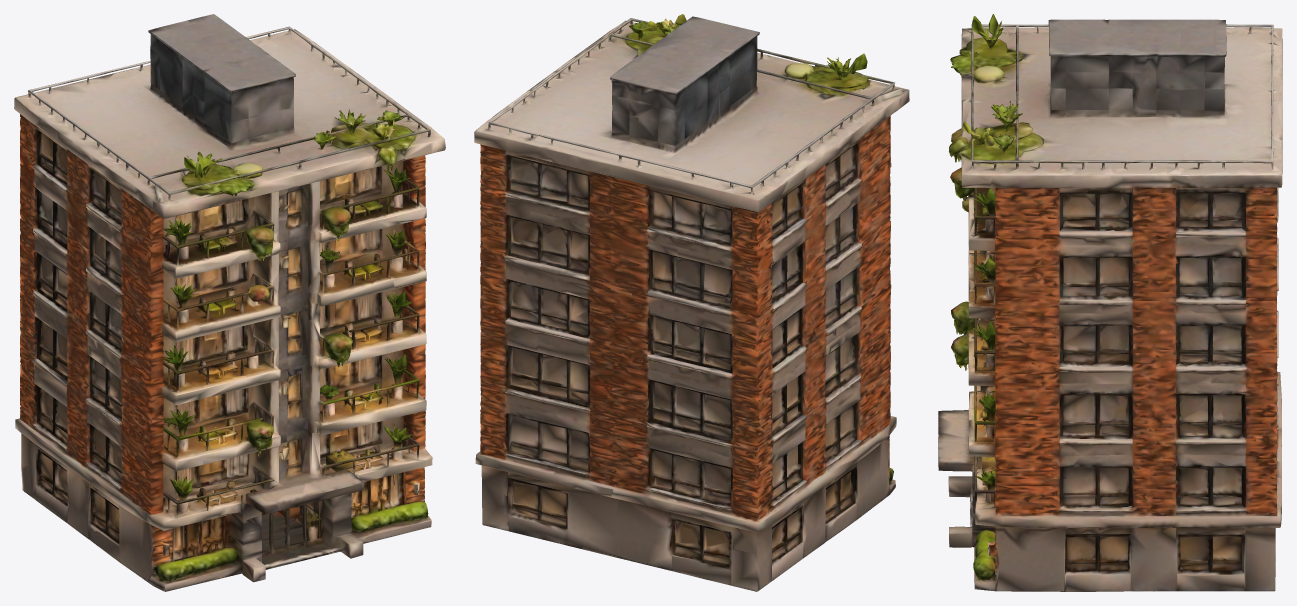
Rendered from brikme-building.glb.
3 renders of one model, left to right at view 1: azimuth 30°, elevation 25°; view 2: azimuth 150°, elevation 25°; view 3: azimuth 270°, elevation 25°, orthographic. The views are drawn at different scales.
Parts seen in each view (by area): view 1: car; view 2: car; view 3: car.
Boxes of the visible parts, box(x1,y1,x2,y2) form: car: box(14, 14, 445, 591); car: box(474, 14, 909, 591); car: box(938, 14, 1282, 591).
Bounding box in the file's own units: 0.6437 × 0.9786 × 0.6312.
Materials: 1 (1 with a texture image).
